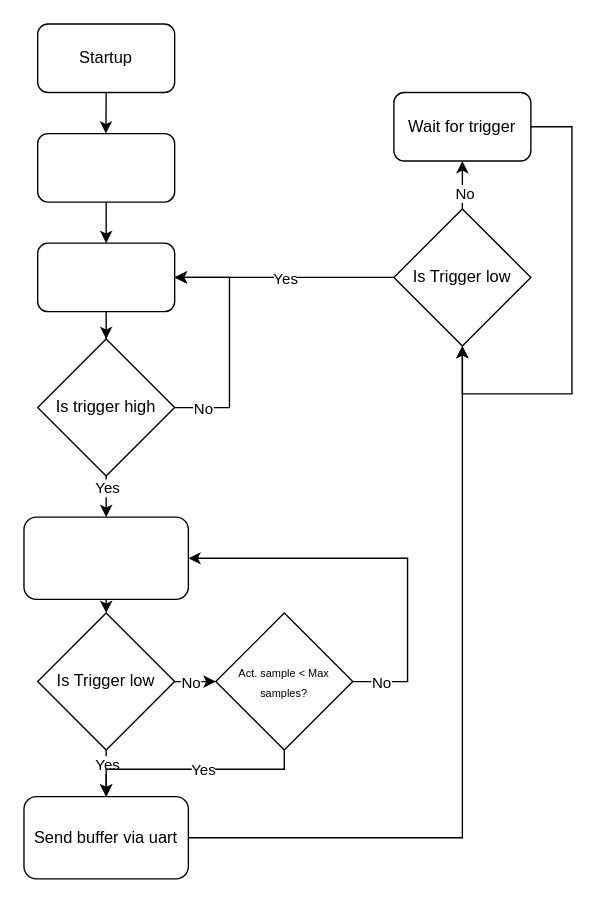
Image size: 607x903. Some labels were removed from this diagram. Here are the shapes that lost their labels. From the top down, the centre of each, then its label:
(x=105, y=167): Send calibrations via UART
(x=105, y=277): Idle
(x=105, y=557): Read sample and save to the buffer
